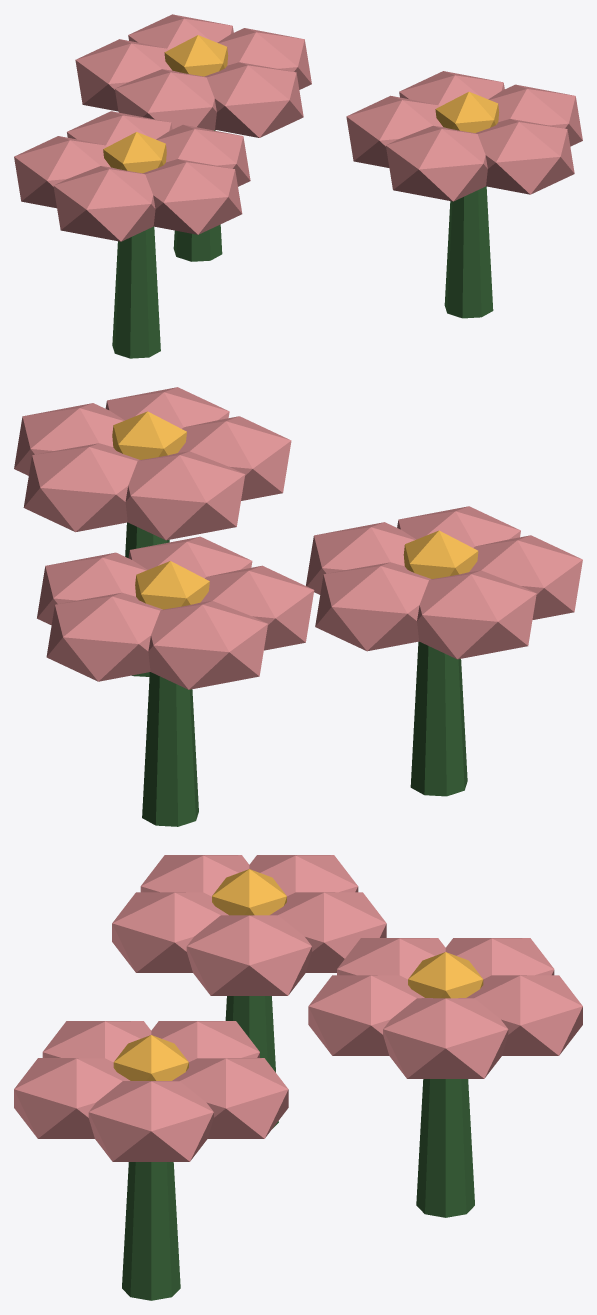
File: flower_a.glb
3 renders of one model, top to bottom at view 1: azimuth 30°, elevation 25°; view 2: azimuth 150°, elevation 25°; view 3: azimuth 270°, elevation 25°, orthographic. The views are drawn at different scales.
Parts seen in each view (by area): view 1: flower_a; view 2: flower_a; view 3: flower_a.
Part boxes in pixels (<box>): flower_a: <box>14,14,582,358</box>; flower_a: <box>14,387,582,826</box>; flower_a: <box>14,855,582,1300</box>.
Bounding box in the file's own units: 1.36 × 0.57 × 1.16.
